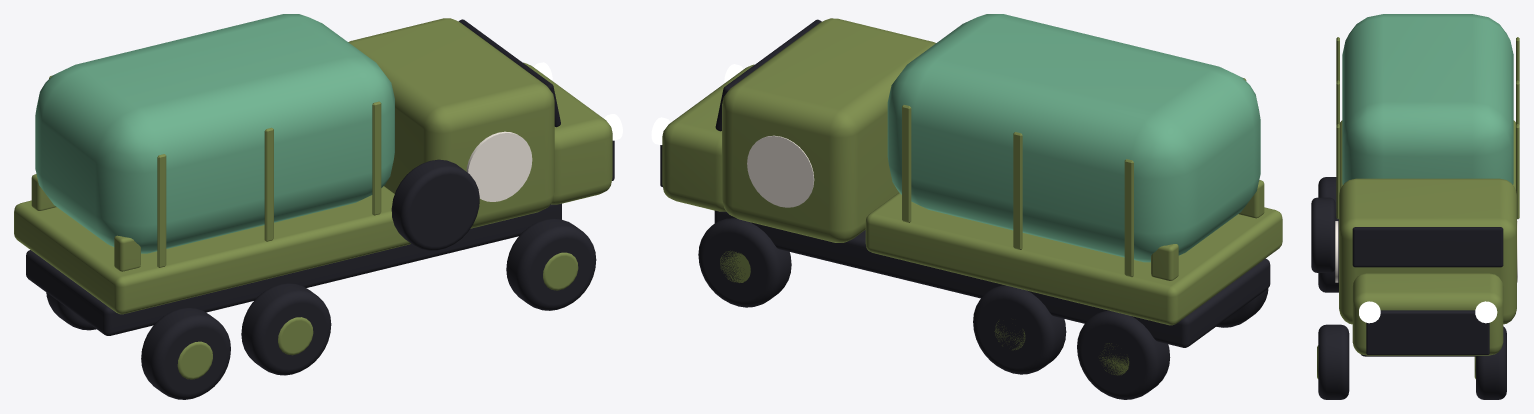
The model's file is army_truck.glb.
The picture shows the model from 3 angles, left to right: view 1: azimuth 30°, elevation 25°; view 2: azimuth 150°, elevation 25°; view 3: azimuth 270°, elevation 25°; orthographic projection. The views are drawn at different scales.
Parts seen in each view (by area): view 1: army_truck; view 2: army_truck; view 3: army_truck.
Part boxes in pixels (x1,y1,x2,y2): army_truck: [14, 14, 622, 399]; army_truck: [651, 14, 1282, 399]; army_truck: [1311, 14, 1519, 399].
Bounding box in the file's own units: 7.22 × 3.6 × 3.03.
Materials: 1 (1 with a texture image).
